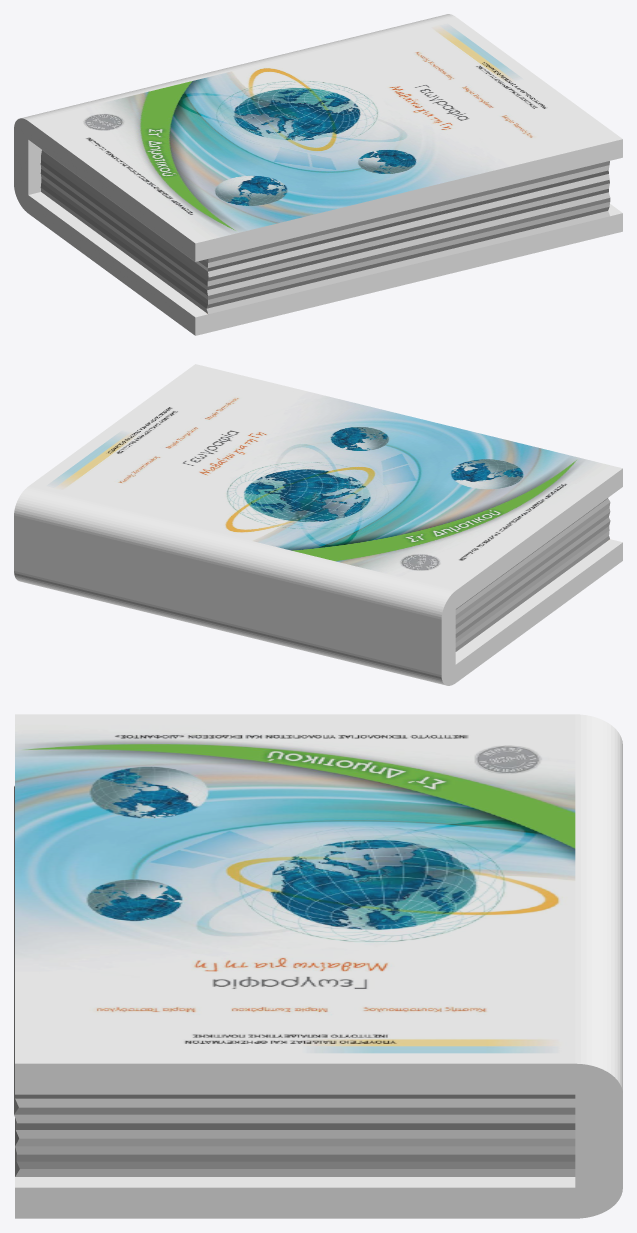
Rendered from book13.obj.
The picture shows the model from 3 angles, top to bottom: view 1: azimuth 30°, elevation 25°; view 2: azimuth 150°, elevation 25°; view 3: azimuth 270°, elevation 25°; orthographic projection. The views are drawn at different scales.
Visible parts, largest first — view 1: Cube_3, Cube_1, Cube_2; view 2: Cube_3, Cube_1, Cube_2; view 3: Cube_3, Cube_1, Cube_2.
Boxes of the visible parts, left/top/right/bottom form: Cube_3: left=41, top=20, right=609, bottom=240; Cube_1: left=14, top=14, right=622, bottom=335; Cube_2: left=40, top=150, right=610, bottom=314; Cube_3: left=41, top=367, right=609, bottom=587; Cube_1: left=14, top=364, right=622, bottom=685; Cube_2: left=455, top=498, right=610, bottom=651; Cube_3: left=15, top=724, right=575, bottom=1053; Cube_1: left=15, top=714, right=622, bottom=1218; Cube_2: left=14, top=786, right=575, bottom=1176.
Size of the model in its own units: 186 by 38.44 by 137.
3 materials, 2 textured.
